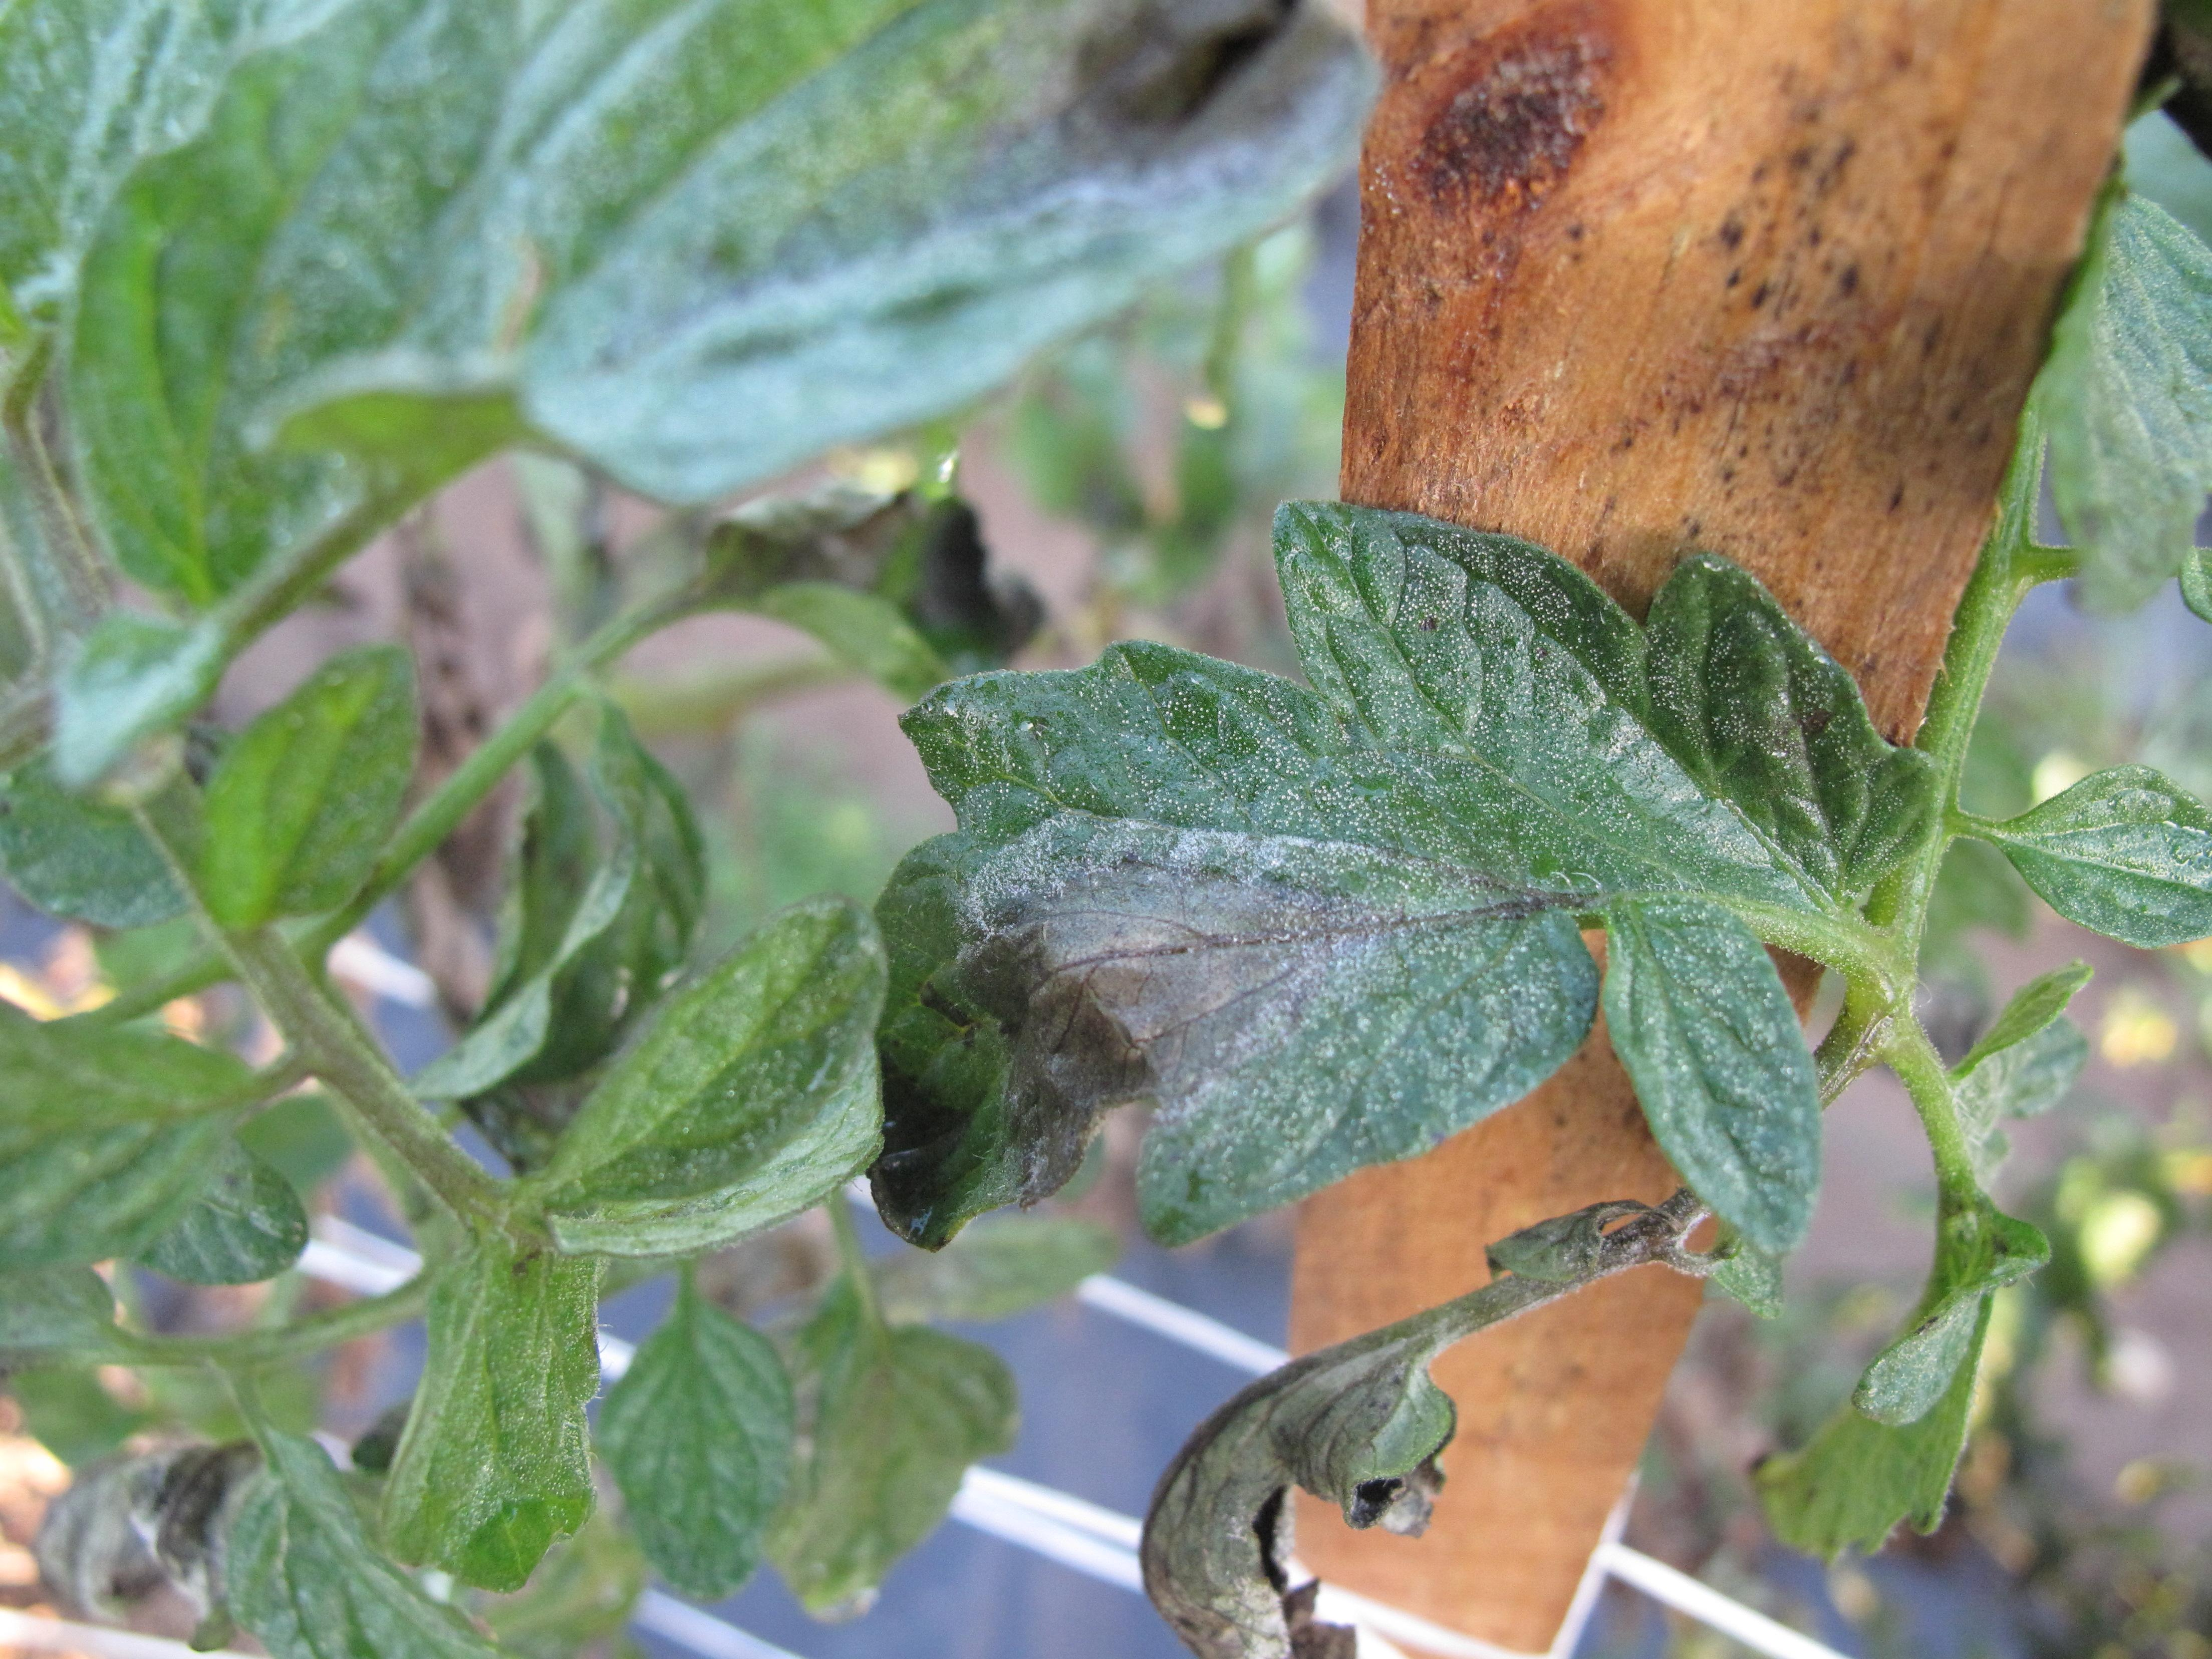Tomato leaf late blight: (725, 483, 2015, 1352)
